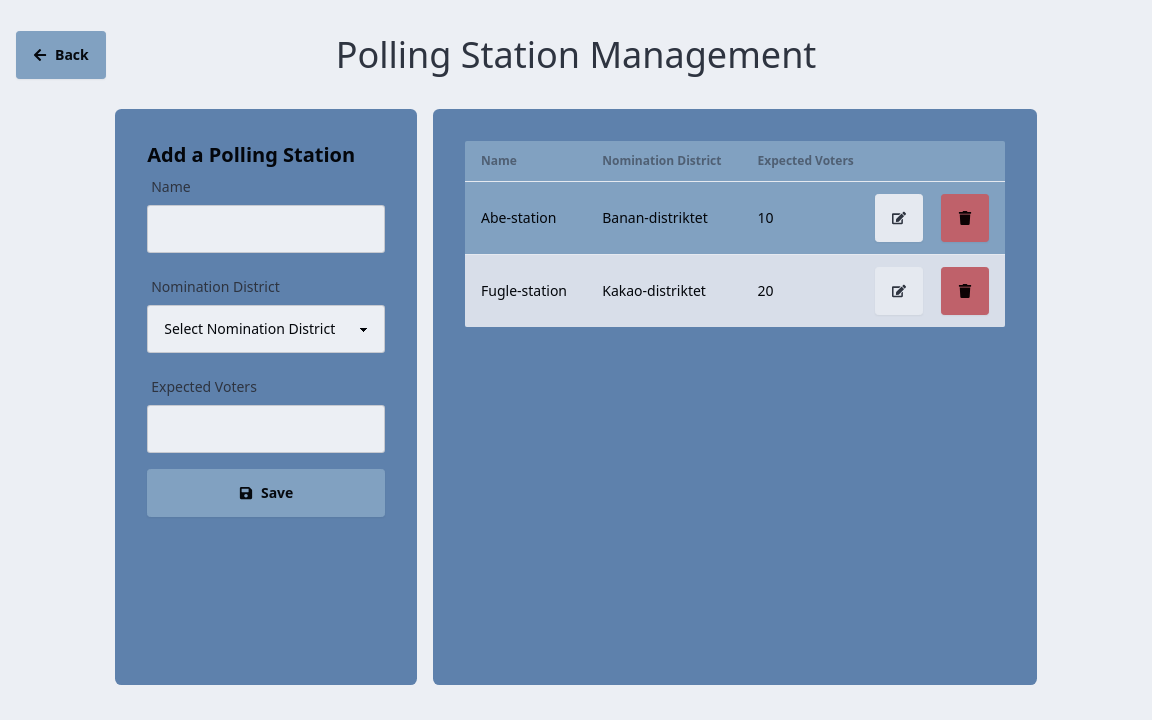
it: PollingStationScreen › should edit an object from the list and refresh list
Click the 2nd button at (899, 218), box [875, 194, 923, 242]
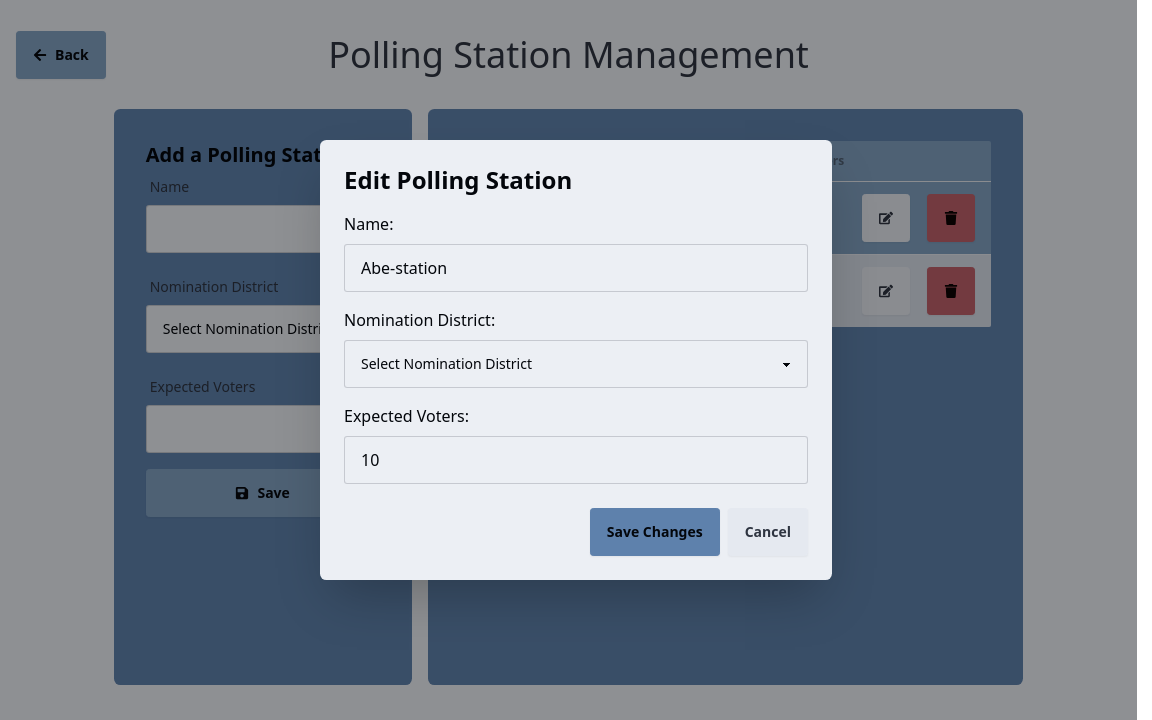
Check: the element with class "modal-open" is shown
Check: the heading with class "modal-box" reads "Edit Polling Station", box [344, 163, 572, 196]
Check: the field is shown
Replace the text in the field with "Krabbe-station" at (576, 268), box [344, 244, 808, 292]
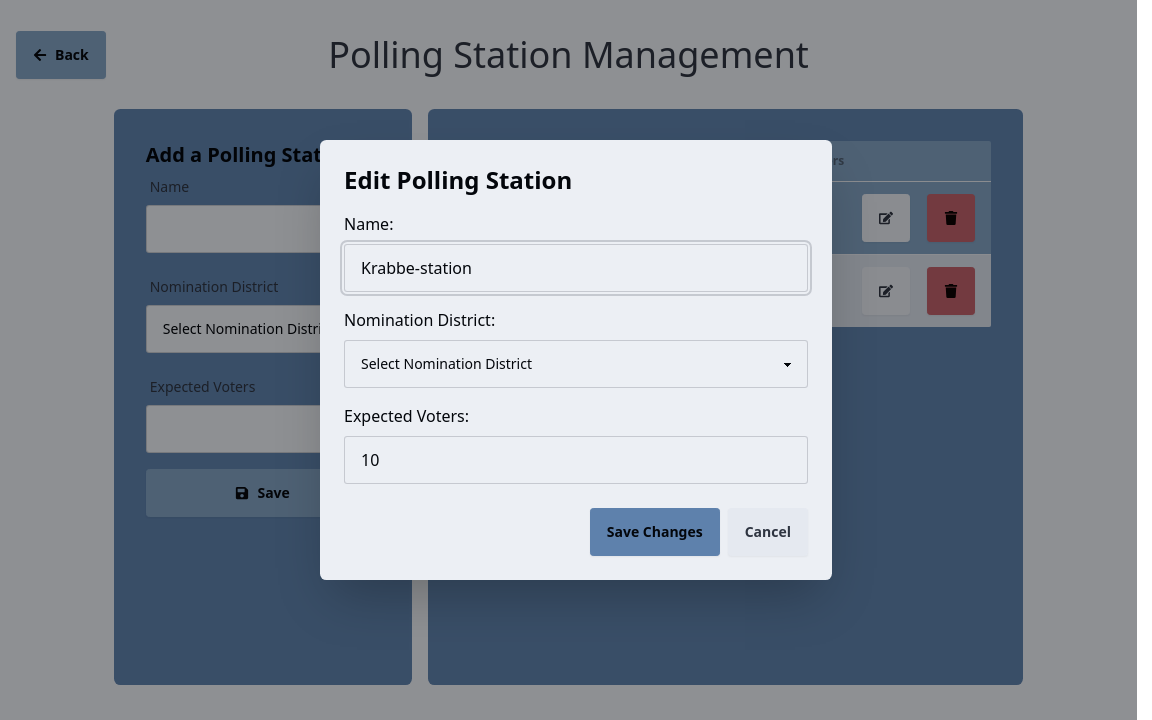
Check: the 2nd dropdown with class "select" is shown
Select "Kakao-distriktet" in the 2nd dropdown with class "select" at (576, 364), box [344, 340, 808, 388]
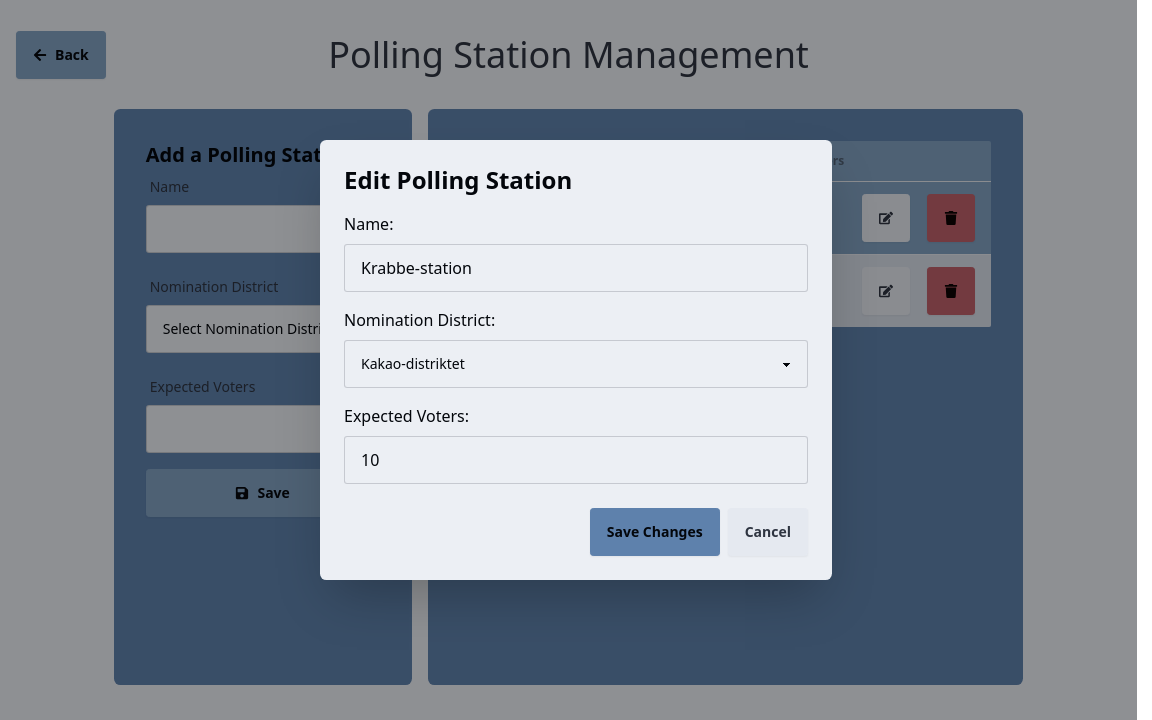
Check: the number field is shown
Replace the text in the number field with "2000" at (576, 460), box [344, 436, 808, 484]
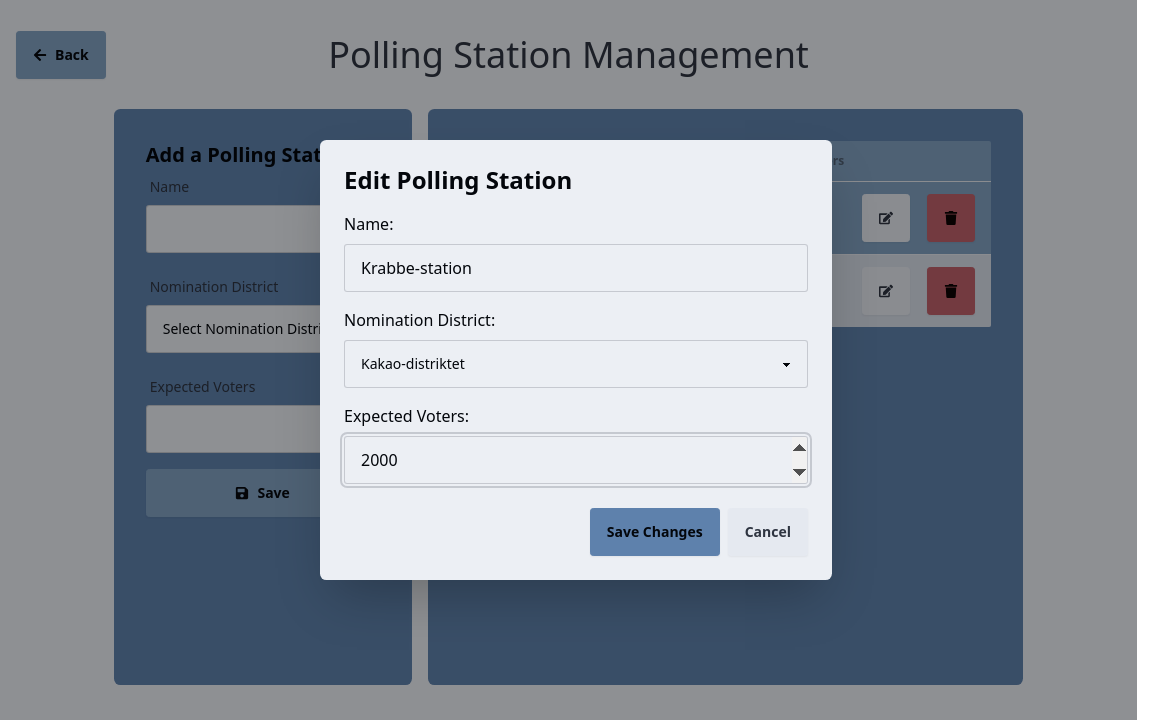
Click the button "Save Changes" at (655, 532), box [590, 508, 720, 556]
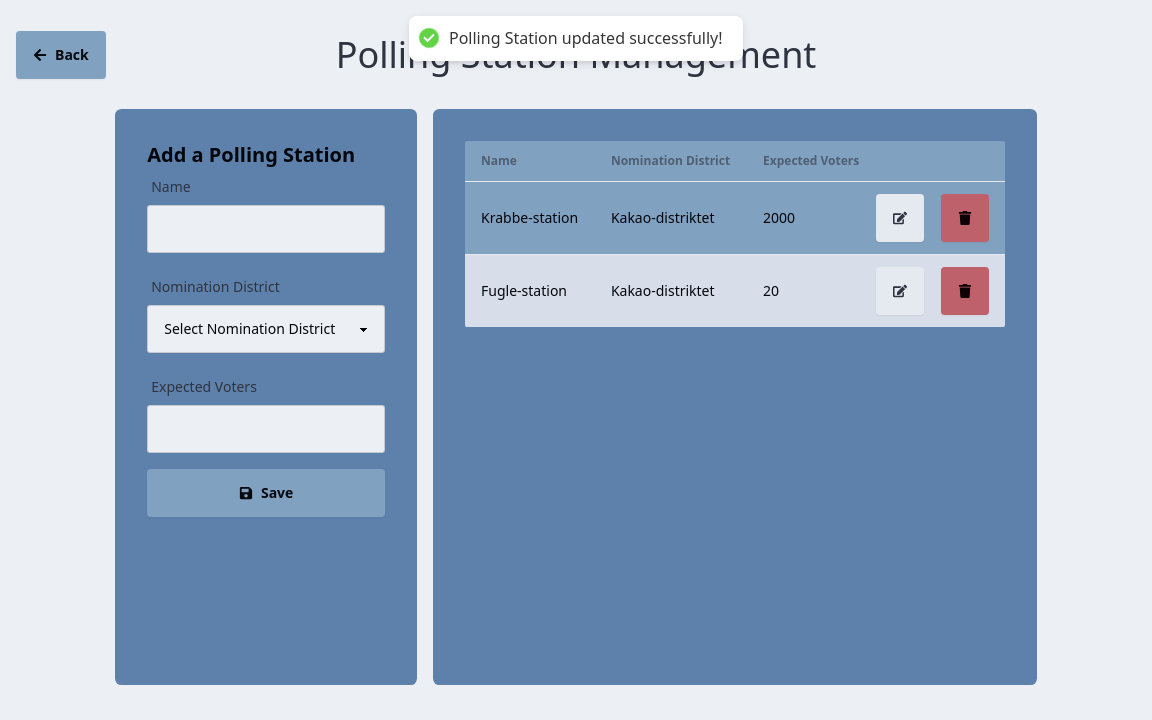
Check: the text "Polling Station updated successfully!" is shown, box [449, 28, 723, 49]
Check: the cell "Krabbe-station" is shown, box [465, 182, 595, 255]
Check: the cell "Kakao-distriktet" next to "Krabbe-station" is shown, box [611, 208, 715, 227]
